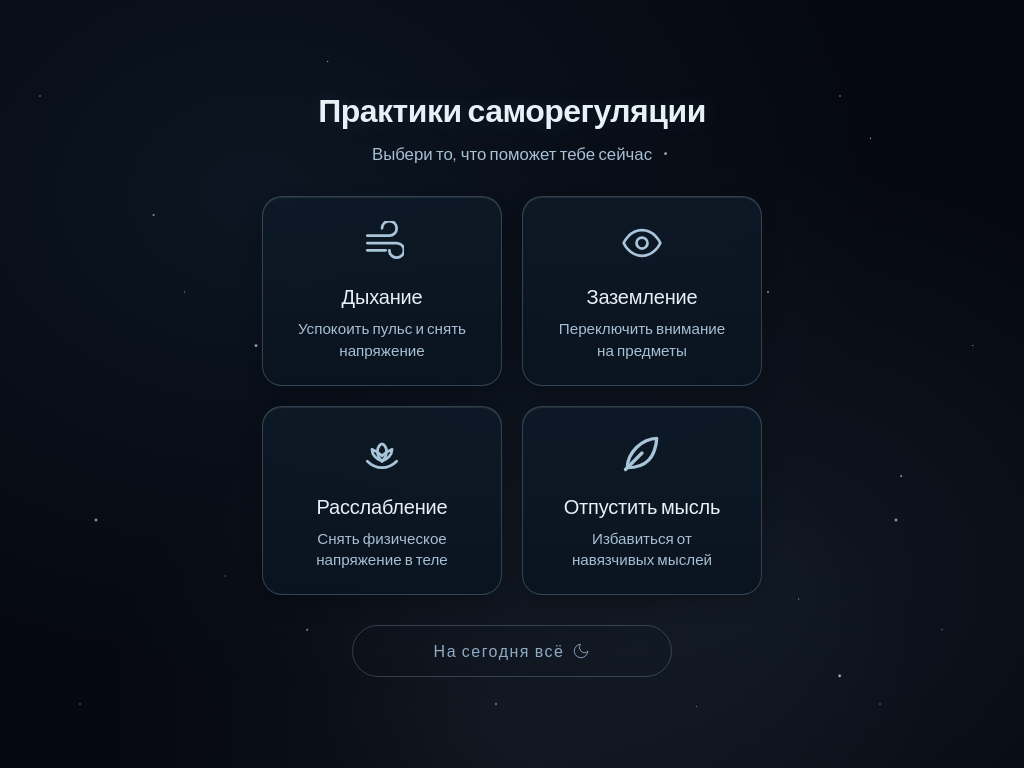
Scenario: App навигация › переходит на экран дыхания при клике на карточку
Click the heading "Дыхание" at (382, 297), box x1=342 y1=284 x2=422 y2=310
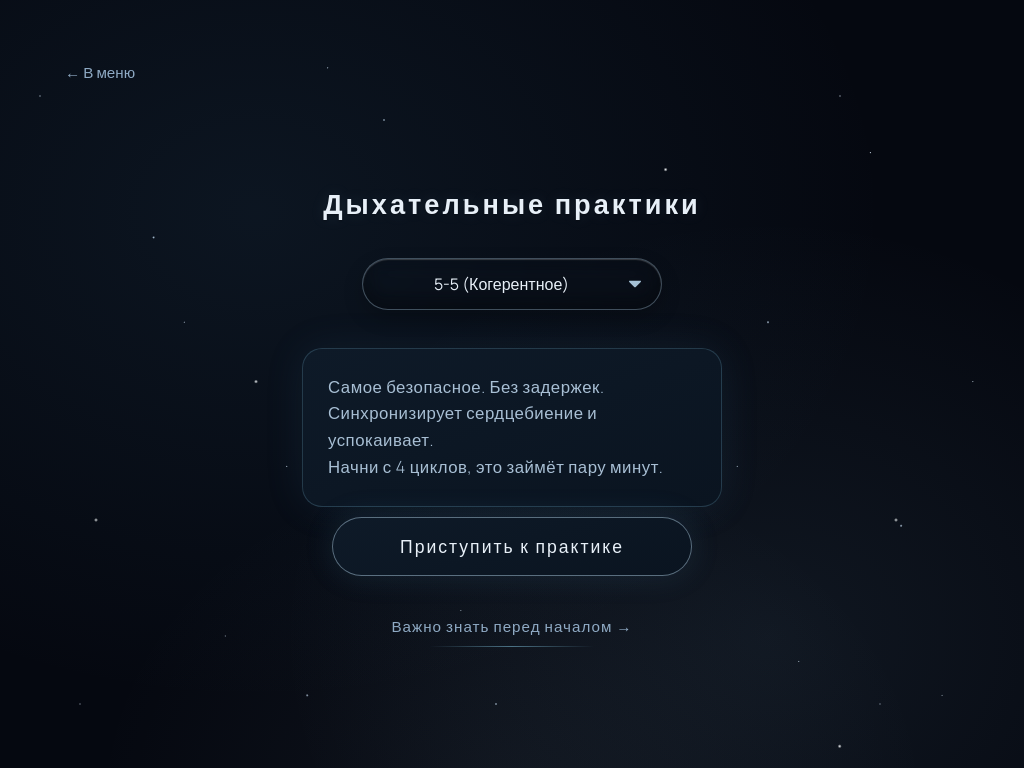
Expected: the button "Приступить к практике" is shown, x1=332 y1=517 x2=692 y2=576
